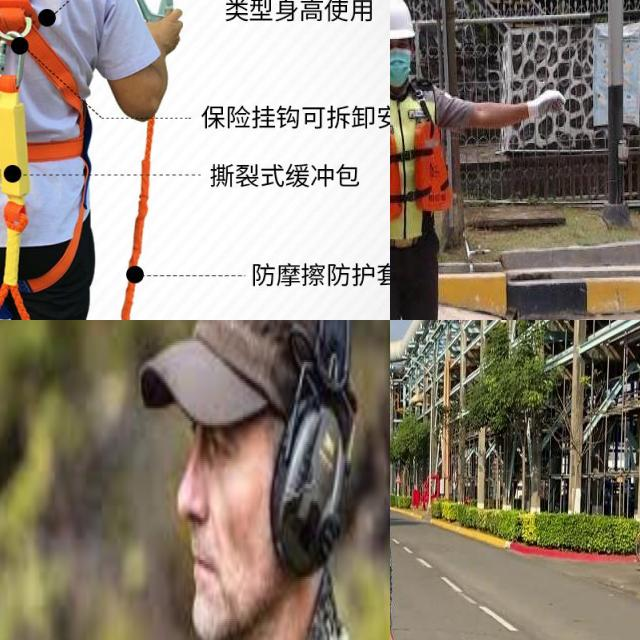Ear-protection: (279, 334, 345, 586)
Harness: (0, 0, 96, 287)
No_Glasses: (181, 400, 262, 504)
head_helmet: (390, 0, 418, 39)
person: (132, 320, 390, 640), (390, 0, 597, 320)
vest: (390, 86, 454, 228)
